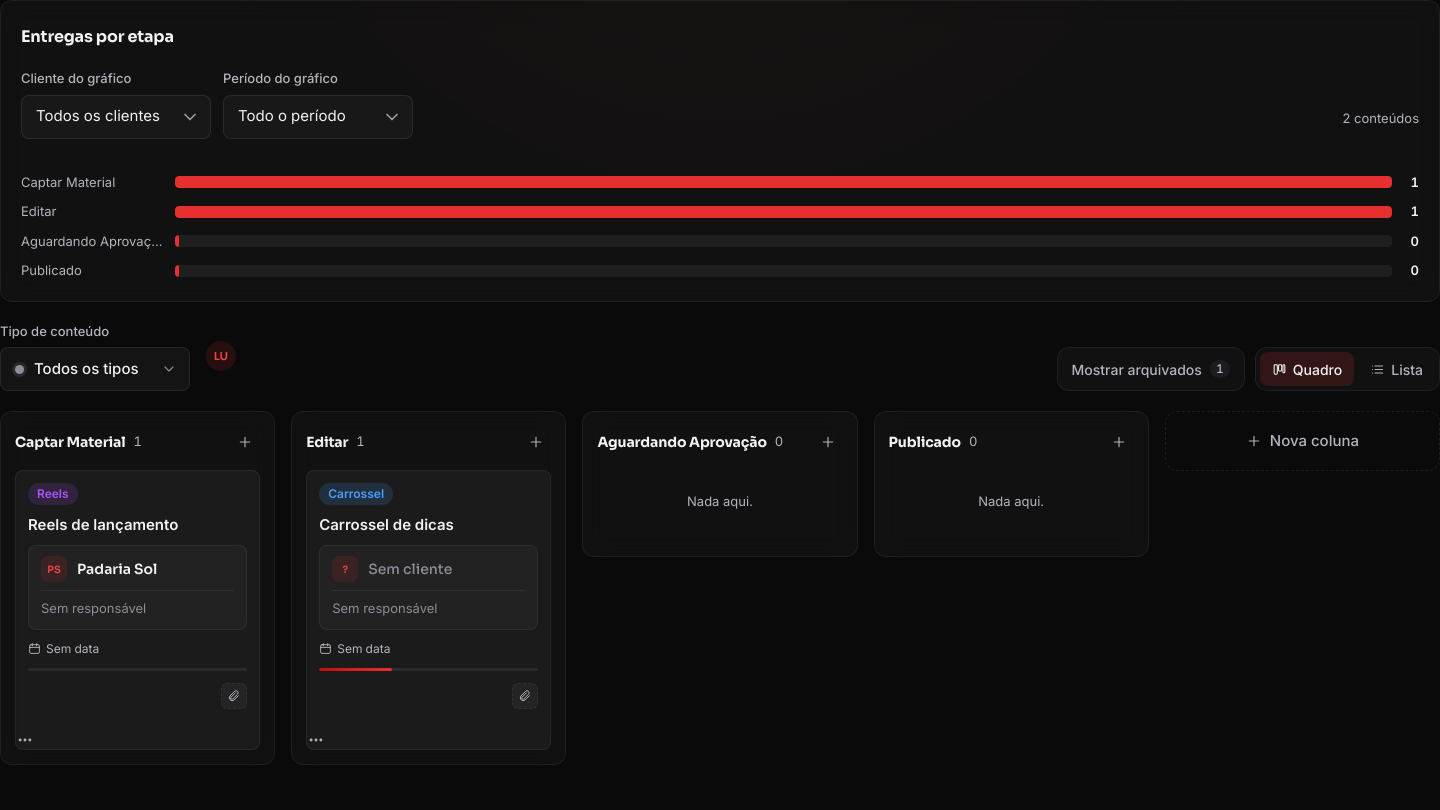
ConteudoPage › publicar pelo painel move o card e registra a publicação
This screenshot has width=1440, height=810.
Click the button with aria-label "Abrir Reels de lançamento": {"x": 138, "y": 577} [16, 471, 259, 683]
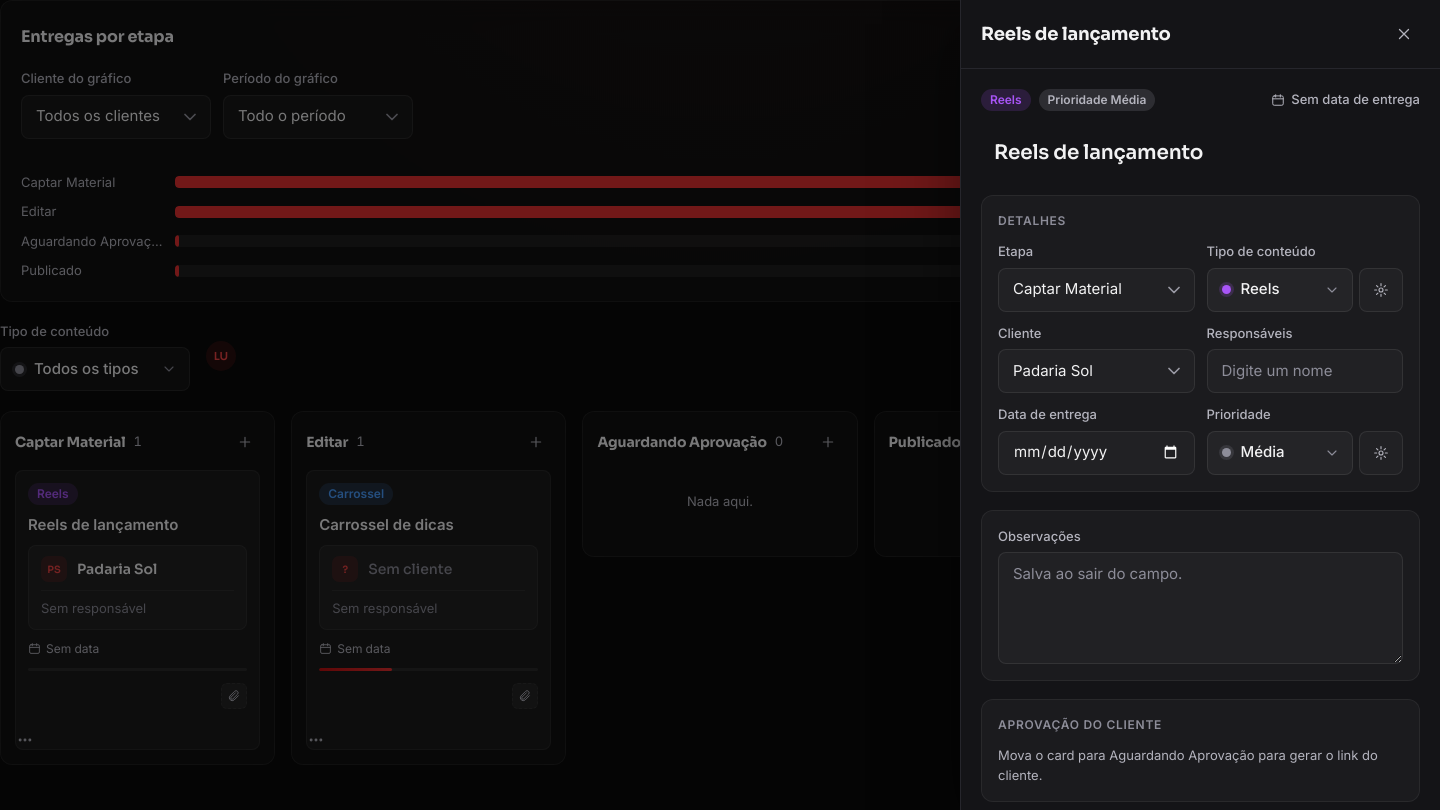
Select "Publicado" in the dropdown labelled "Etapa": {"x": 1096, "y": 290} [998, 268, 1194, 312]
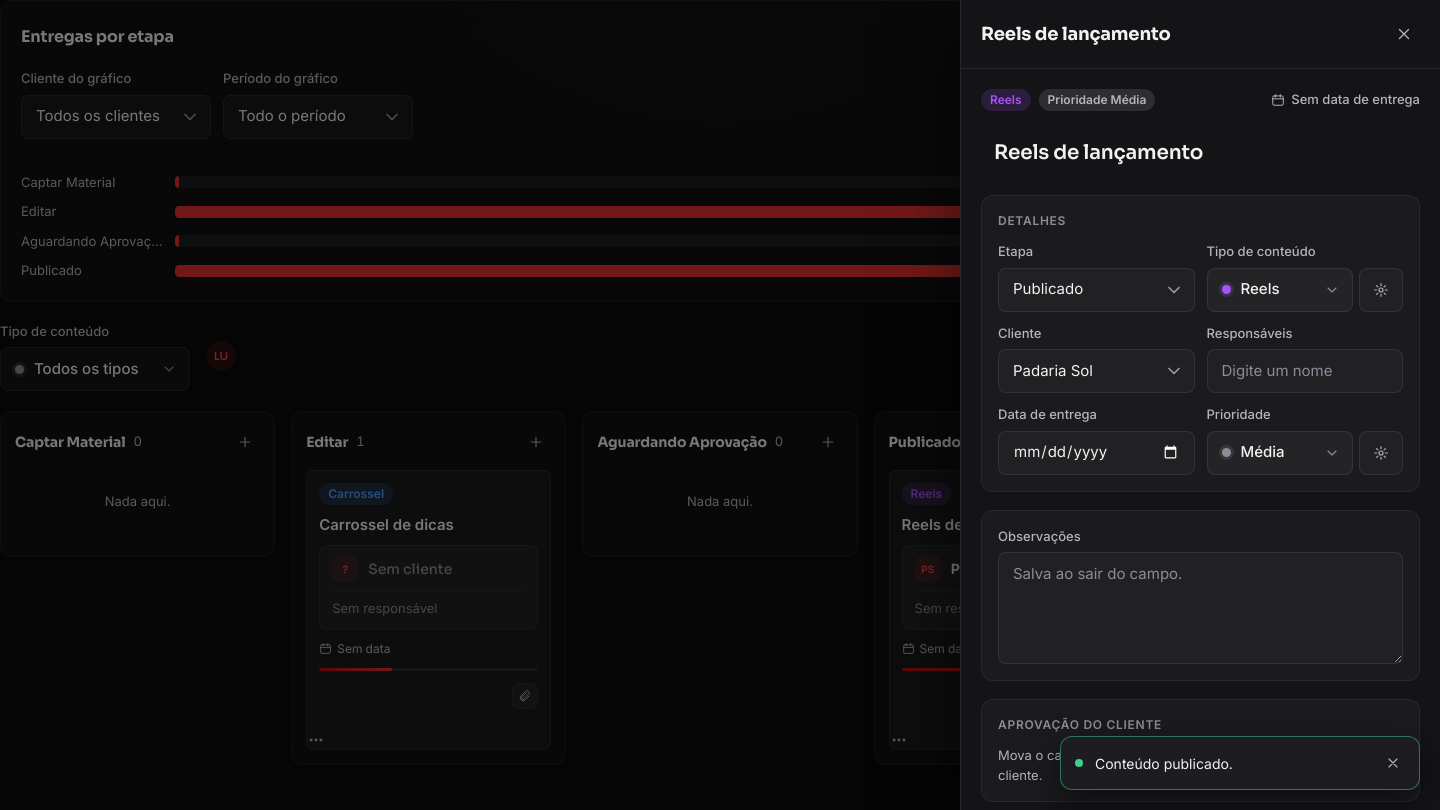
Expected: the text "Reels de lançamento" is shown, [902, 515, 1052, 534]
Now the text "Conteúdo publicado." is shown, box [1095, 754, 1233, 772]
